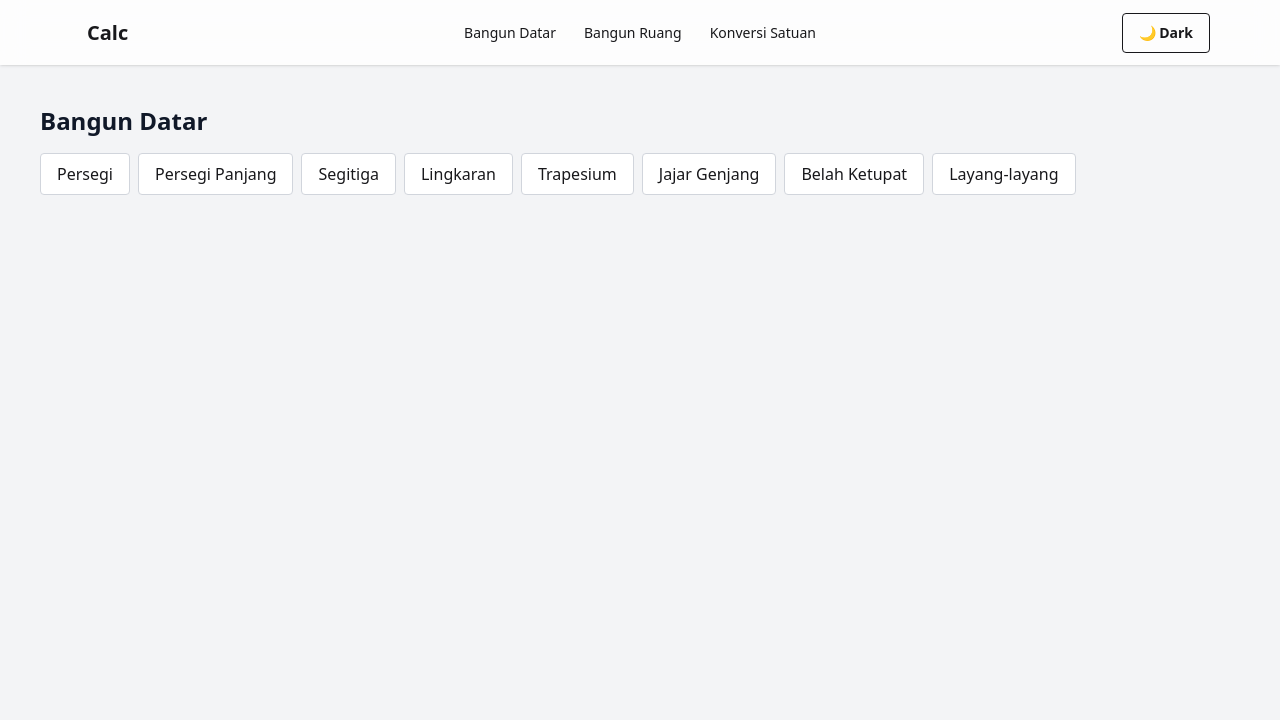
Test: App › toggles and persists theme
Click the button "🌙 Dark": click(1166, 32) [1122,12,1210,52]
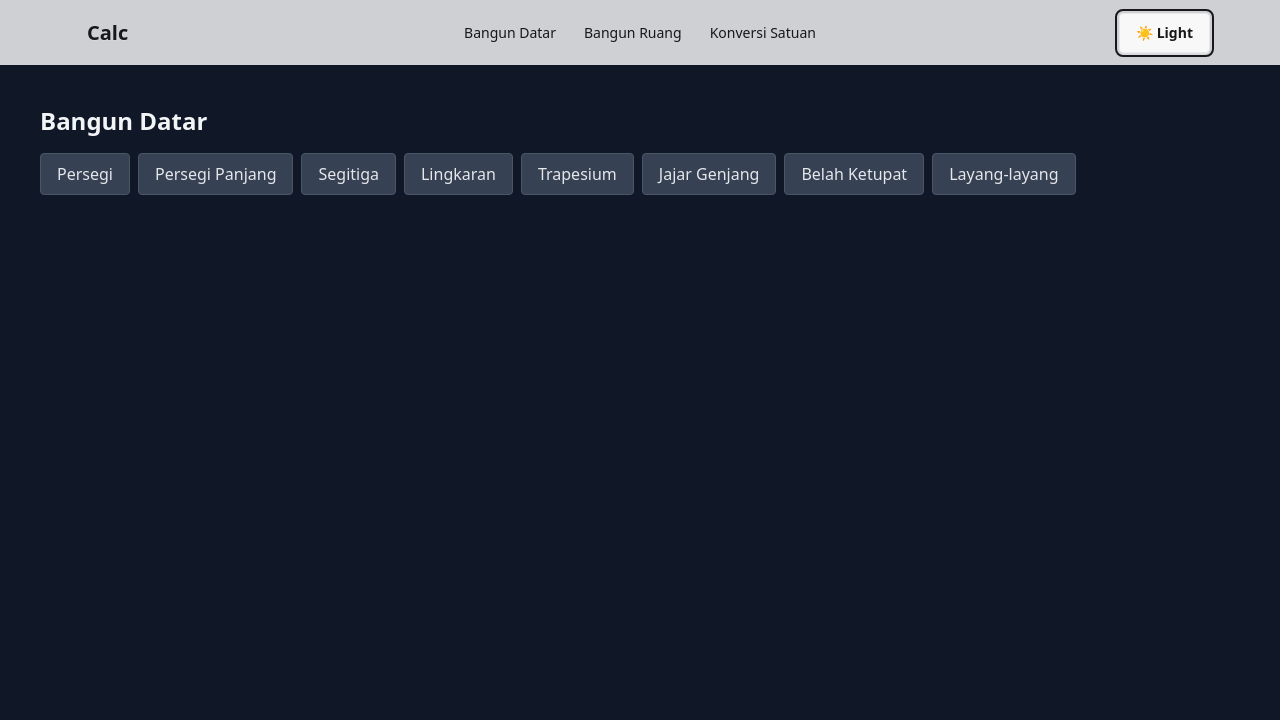
Check: the button "☀️ Light" is shown, box [1119,12,1210,52]
